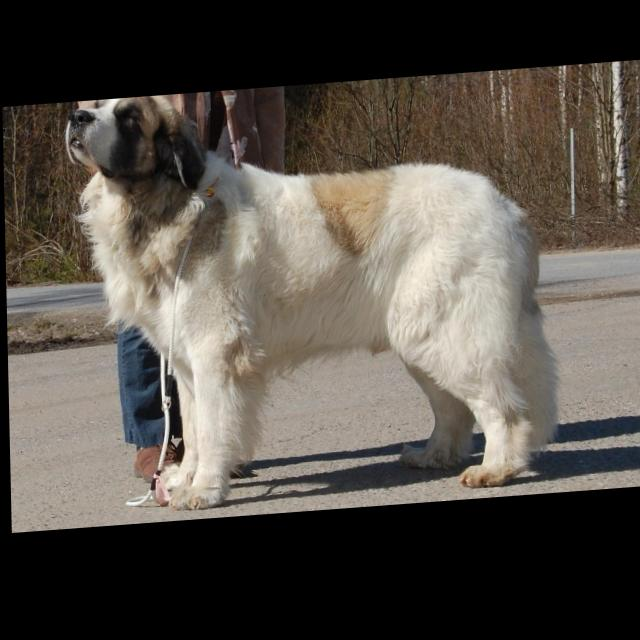other_dog_breed: (65, 76, 562, 524)
person: (76, 92, 293, 490)
